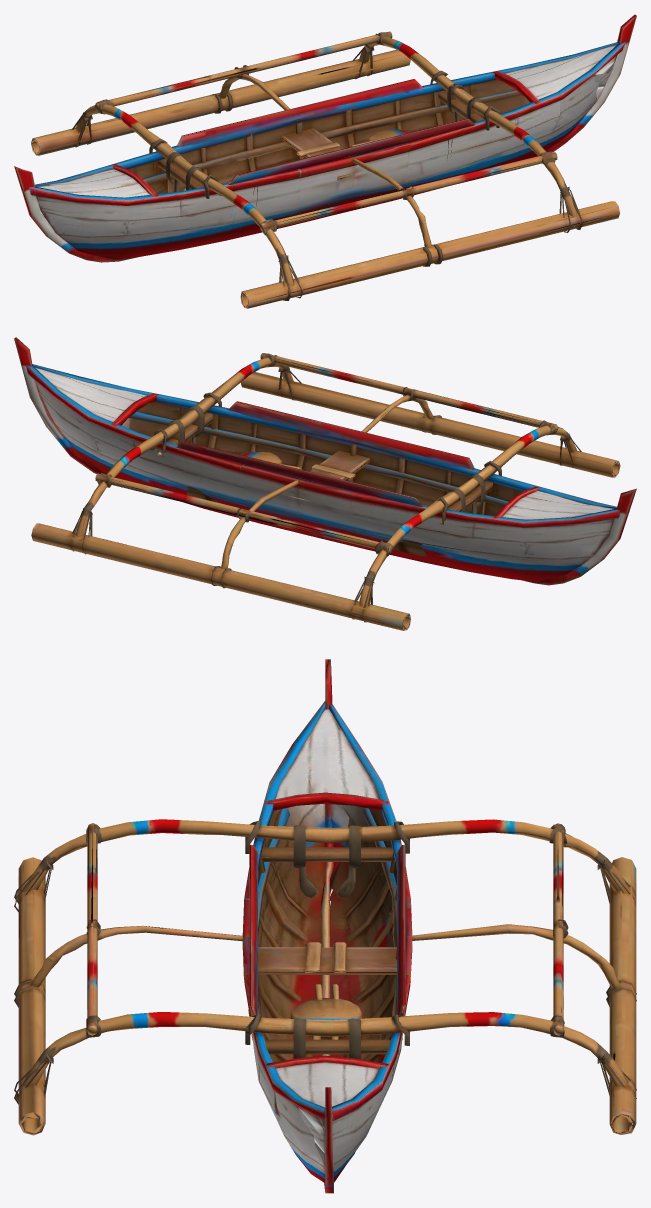
File: bangka.glb
3 renders of one model, top to bottom at view 1: azimuth 30°, elevation 25°; view 2: azimuth 150°, elevation 25°; view 3: azimuth 270°, elevation 25°, orthographic. The views are drawn at different scales.
Visible parts, largest first — view 1: geometry_0; view 2: geometry_0; view 3: geometry_0.
Boxes of the visible parts, x1,y1,x2,y2 form: geometry_0: (14, 14, 636, 308); geometry_0: (14, 337, 636, 630); geometry_0: (14, 659, 636, 1193).
Size of the model in its own units: 0.9575 by 0.1753 by 0.5894.
1 material, 1 textured.
